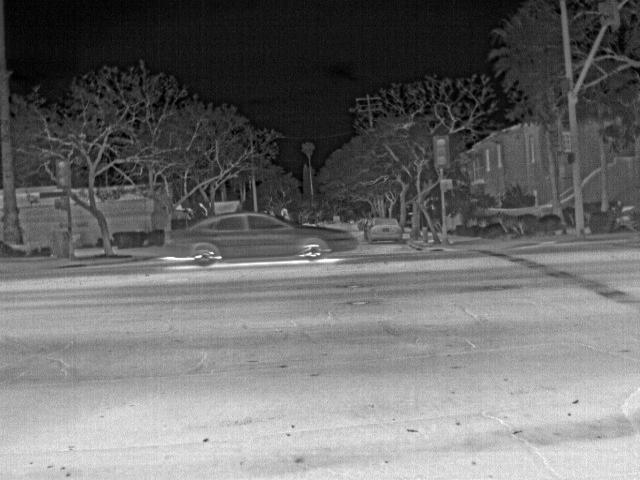car: (164, 211, 359, 268), (365, 214, 404, 244), (358, 218, 370, 232), (348, 217, 356, 227)
person: (278, 207, 291, 223)
